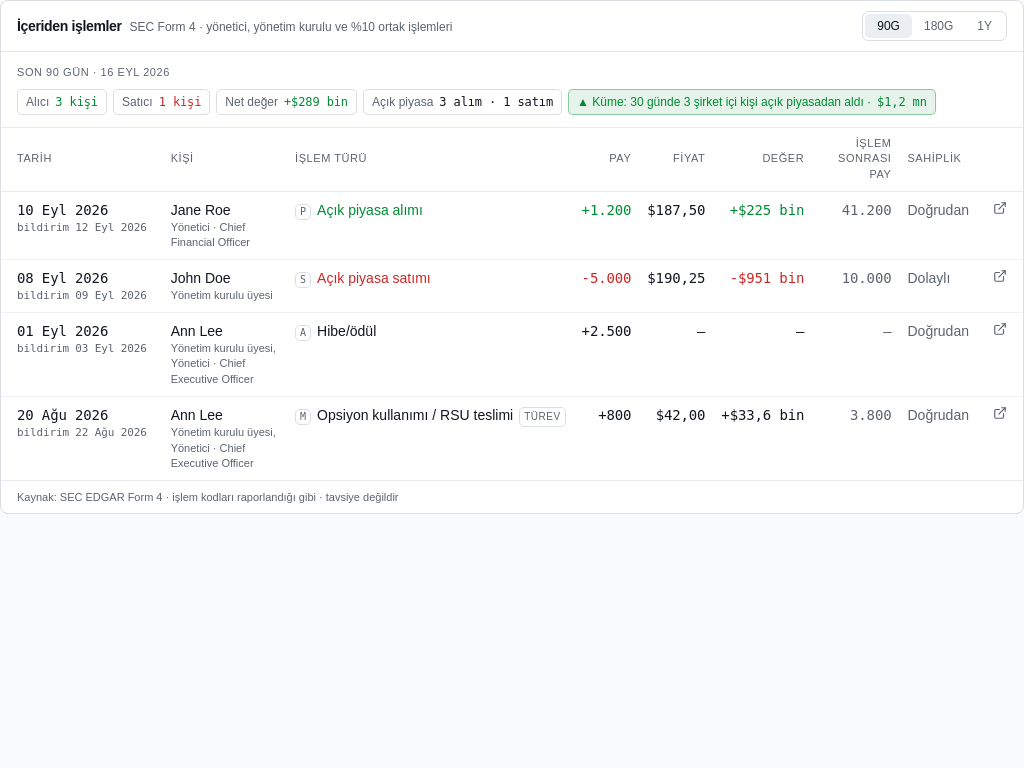
Test case: Insiders › keeps the loaded window on screen when the next one fails, and says so
Expected: the table is shown, [1, 128, 1023, 480]
Click the button "180G" at {"x": 939, "y": 26}, box [912, 14, 965, 38]
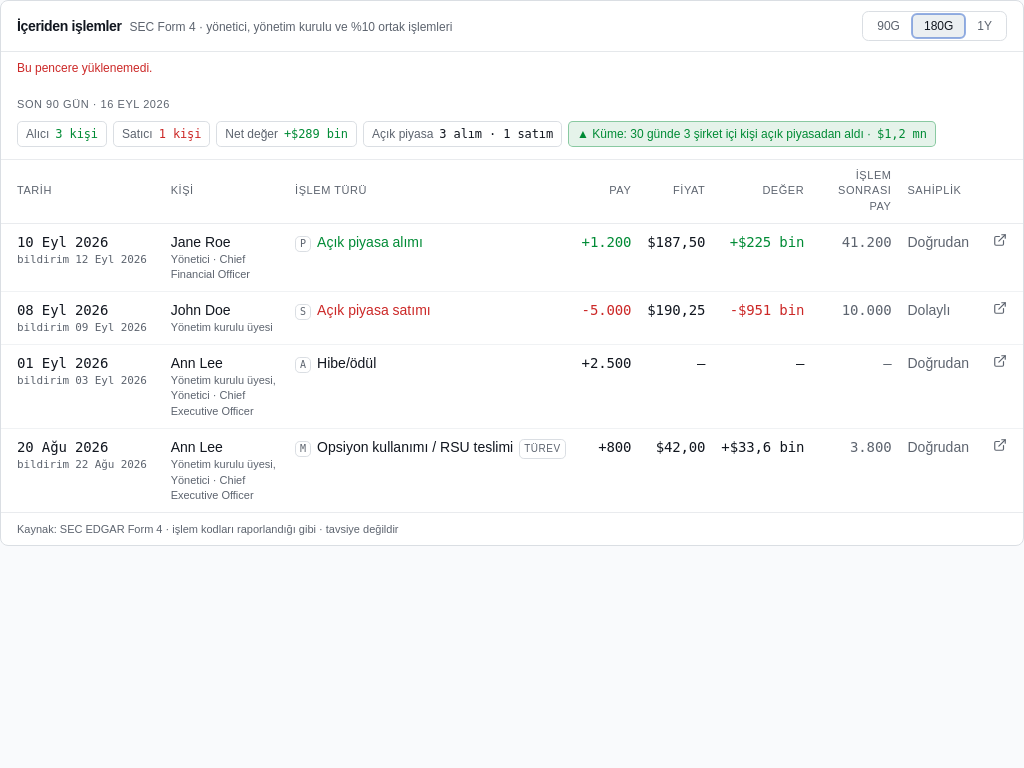
Expected: the table is shown, [1, 160, 1023, 512]
Now the text "Bu pencere yüklenemedi." is shown, box [17, 61, 152, 75]
Click the button "90G" at {"x": 889, "y": 26}, box [865, 14, 912, 38]
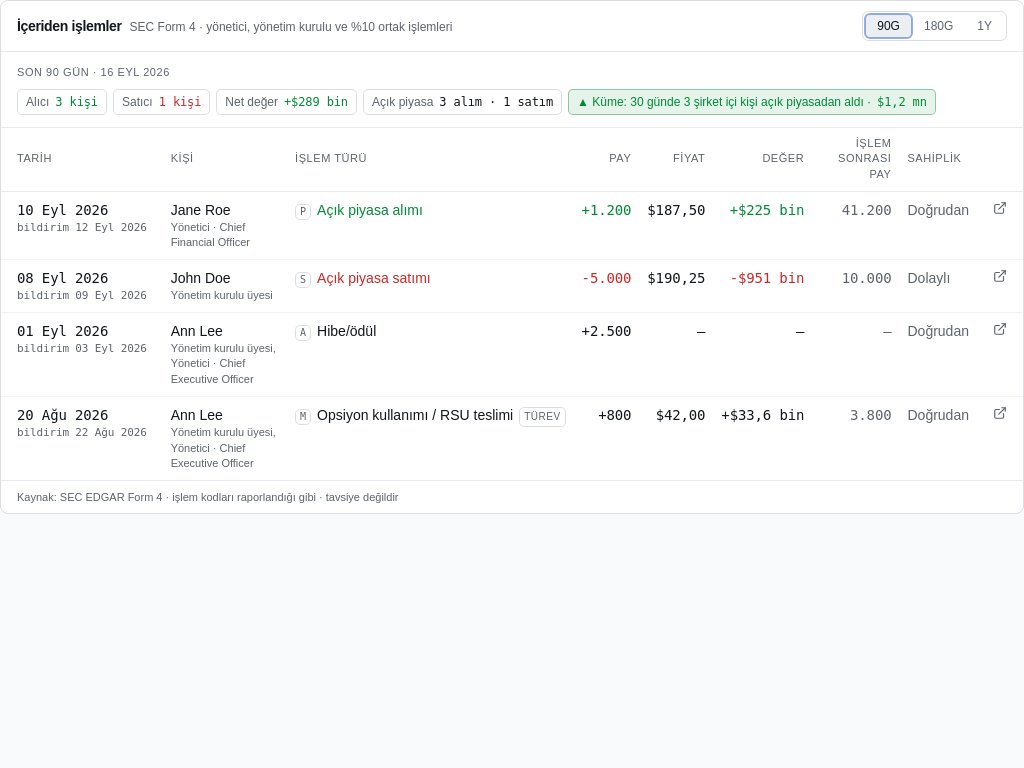
Now the text "Bu pencere yüklenemedi." is gone
